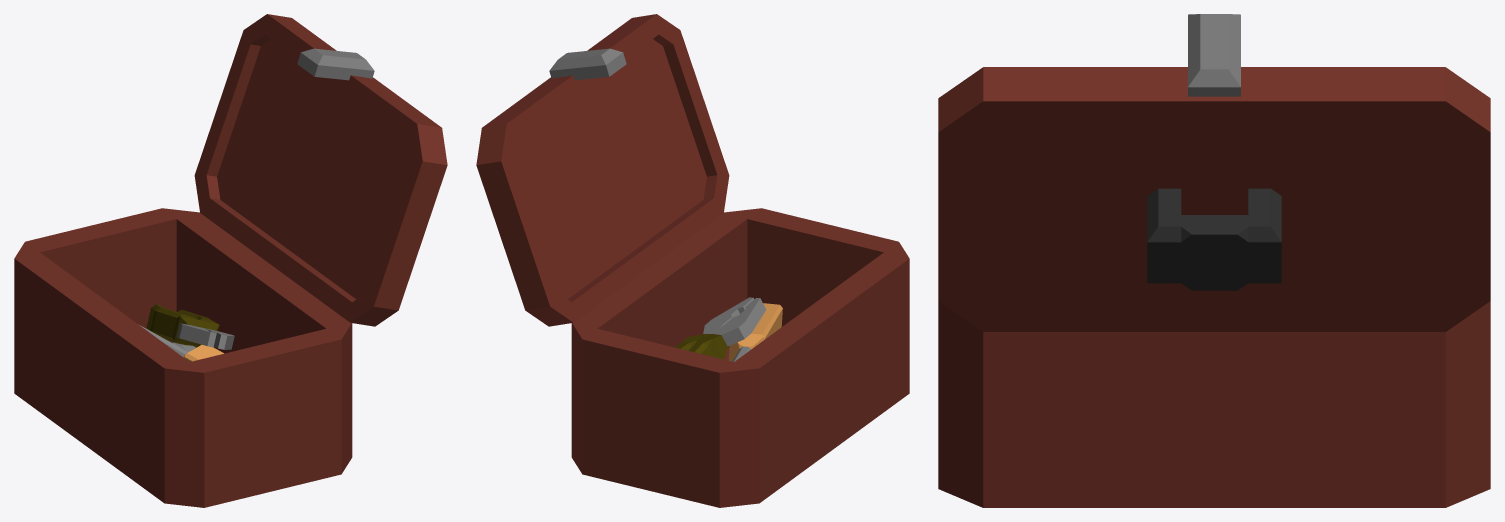
File: ToolBox.fbx
3 views of the same model, side by side, from view 1: azimuth 30°, elevation 25°; view 2: azimuth 150°, elevation 25°; view 3: azimuth 270°, elevation 25° (orthographic). The views are drawn at different scales.
Visible parts, largest first — view 1: Caja, Alicates, Destornillador; view 2: Caja, Alicates, Destornillador; view 3: Caja.
Part boxes in pixels (<box>): Caja: <box>14,14,447,507</box>; Alicates: <box>146,304,234,349</box>; Destornillador: <box>139,325,223,361</box>; Caja: <box>476,14,909,507</box>; Alicates: <box>675,297,766,359</box>; Destornillador: <box>728,303,782,361</box>; Caja: <box>938,14,1490,507</box>.
Size of the model in its own units: 29.02 by 26.72 by 30.44.
